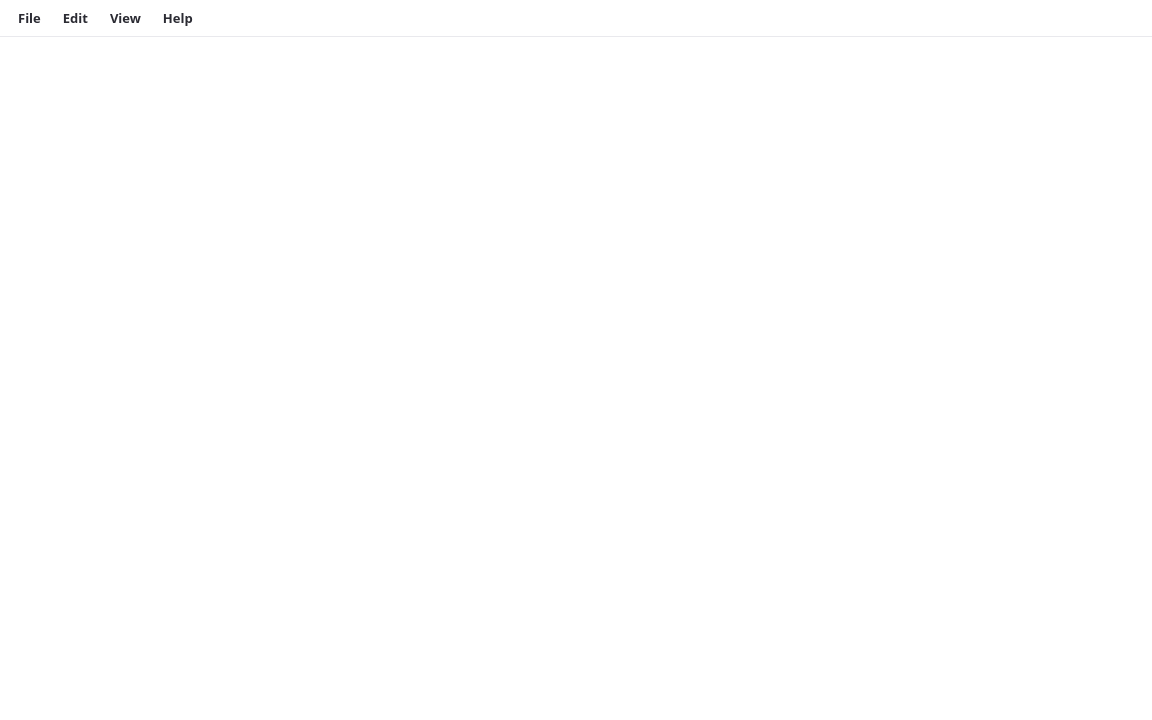
it: MenuBar › shows the four canvas toggles in the View menu
Click the menu item "View" at (125, 18), box [100,4,151,32]
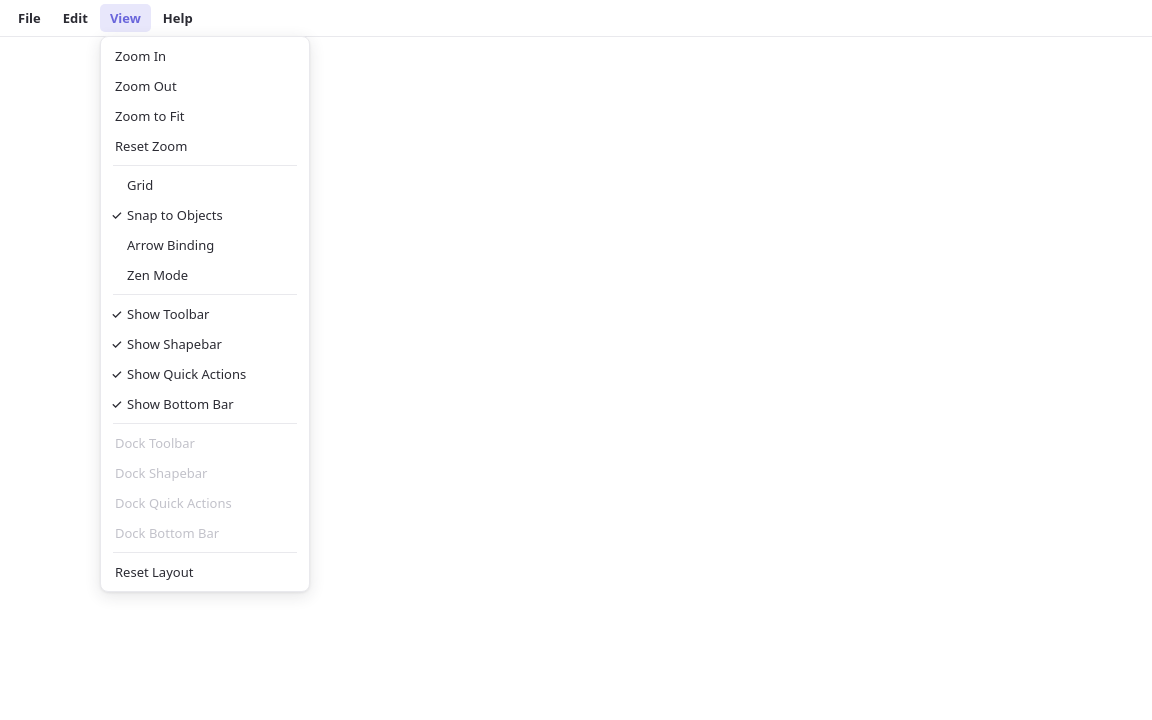
Result: the menu item "Grid" is shown at [127,176,153,194]
Result: the menu item "✓ Snap to Objects" is shown at [111,206,223,224]
Result: the menu item "Arrow Binding" is shown at [127,236,214,254]
